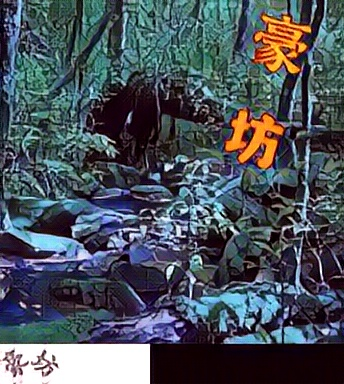B7BB: (225, 106, 286, 171)
BAC0: (251, 12, 312, 77)
